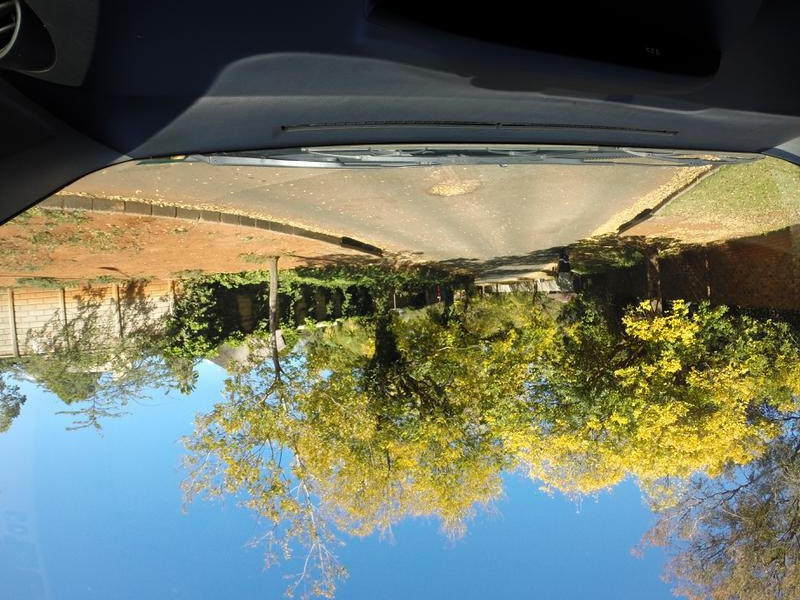pothole: (426, 179, 481, 193)
